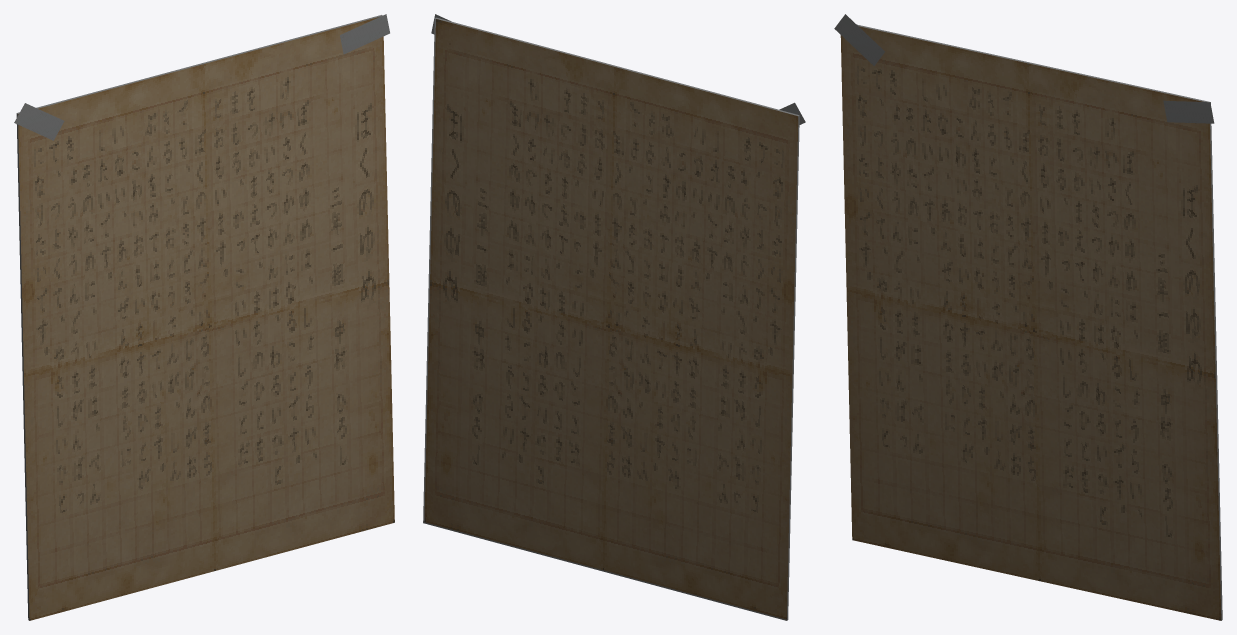
Rendered from prop_poster-sakubun-5.glb.
The picture shows the model from 3 angles, left to right: view 1: azimuth 30°, elevation 25°; view 2: azimuth 150°, elevation 25°; view 3: azimuth 330°, elevation 25°; orthographic projection.
Visible parts, largest first — view 1: prop_poster-sakubun-5; view 2: prop_poster-sakubun-5; view 3: prop_poster-sakubun-5.
Part boxes in pixels (x1,y1,x2,y2): prop_poster-sakubun-5: [14, 14, 394, 620]; prop_poster-sakubun-5: [423, 14, 805, 620]; prop_poster-sakubun-5: [834, 14, 1222, 620].
Bounding box in the file's own units: 0.4817 × 0.6278 × 0.0055.
2 materials, 2 textured.
